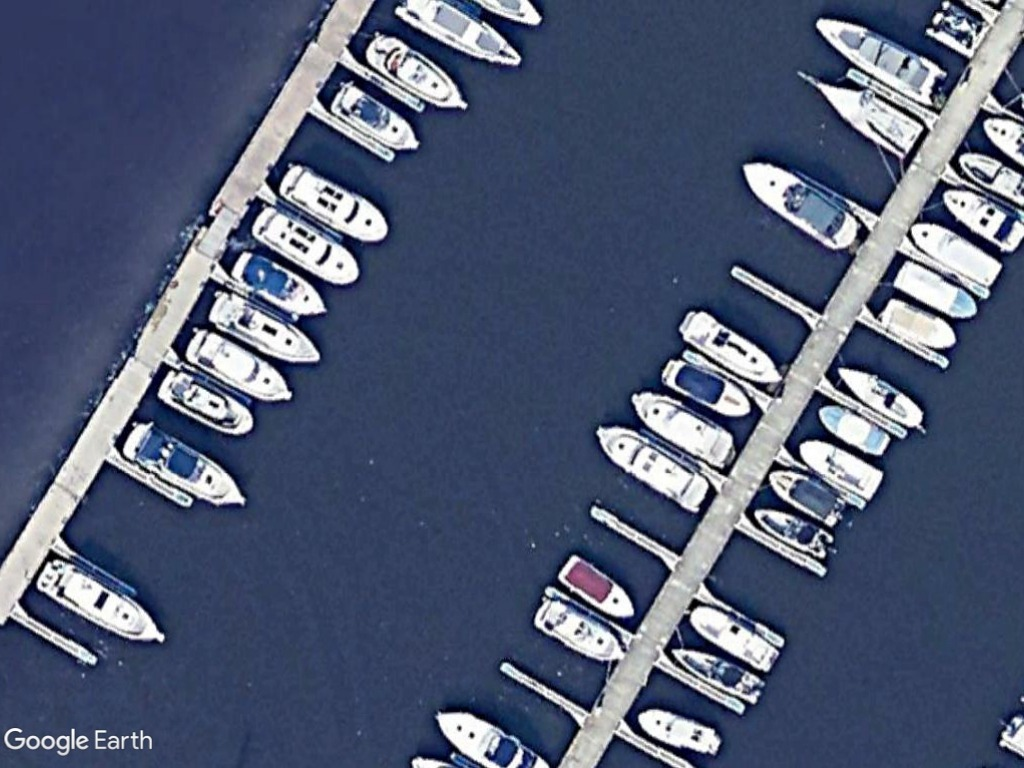boat: (32, 552, 170, 649), (811, 15, 950, 108), (793, 64, 926, 158), (119, 420, 250, 509), (736, 157, 861, 250), (593, 420, 715, 515), (249, 202, 364, 290), (276, 160, 392, 247), (204, 287, 324, 368), (359, 27, 469, 115), (675, 306, 787, 392), (627, 387, 740, 470), (180, 327, 296, 407), (227, 246, 331, 322), (155, 366, 260, 440), (326, 77, 422, 157), (527, 590, 628, 666), (908, 219, 1005, 291), (832, 362, 929, 434), (658, 355, 760, 423), (687, 603, 780, 675), (553, 547, 639, 623), (794, 436, 888, 504), (888, 255, 980, 324), (938, 187, 1024, 258), (667, 645, 766, 704), (750, 502, 840, 563), (763, 466, 846, 529), (877, 293, 961, 355), (633, 704, 725, 759), (812, 402, 893, 460)
